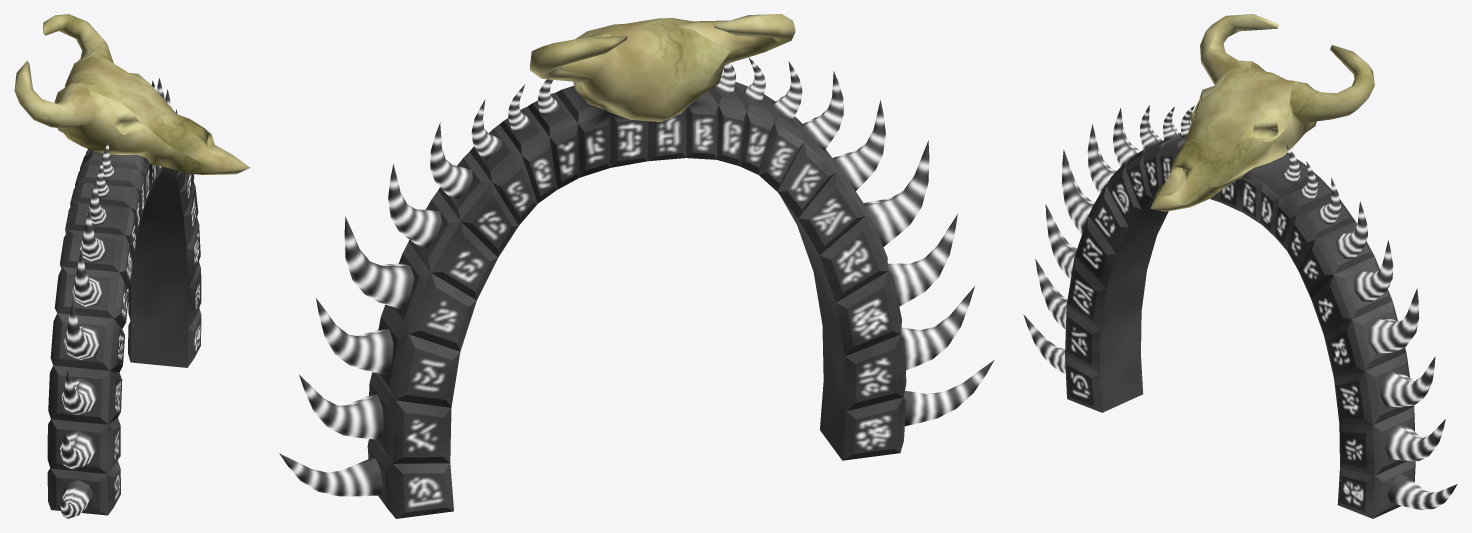
File: LV7GateGeo.fbx
3 renders of one model, left to right at view 1: azimuth 30°, elevation 25°; view 2: azimuth 150°, elevation 25°; view 3: azimuth 270°, elevation 25°, orthographic. The views are drawn at different scales.
Parts seen in each view (by area): view 1: polySurface200; view 2: polySurface200; view 3: polySurface200.
Boxes of the visible parts, box(x1,y1,x2,y2) form: polySurface200: box(14, 14, 250, 518); polySurface200: box(279, 14, 994, 518); polySurface200: box(1023, 14, 1457, 518).
Bounding box in the file's own units: 47.83 × 50.86 × 51.68.
